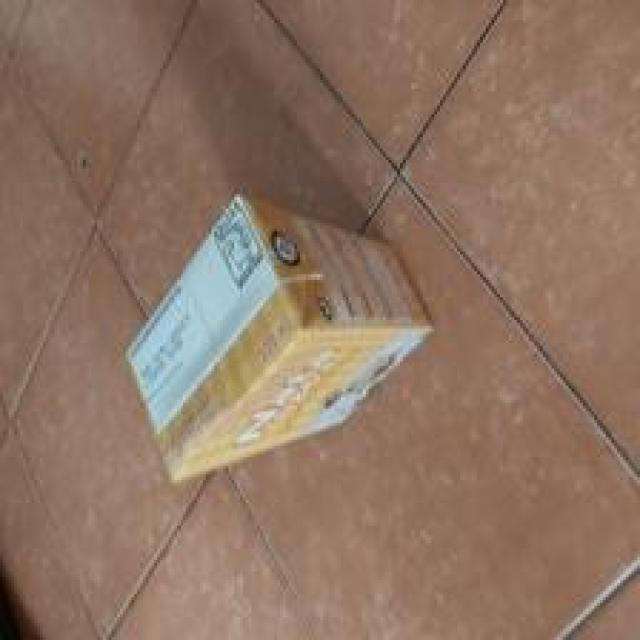Cardboard: (126, 193, 437, 484)
